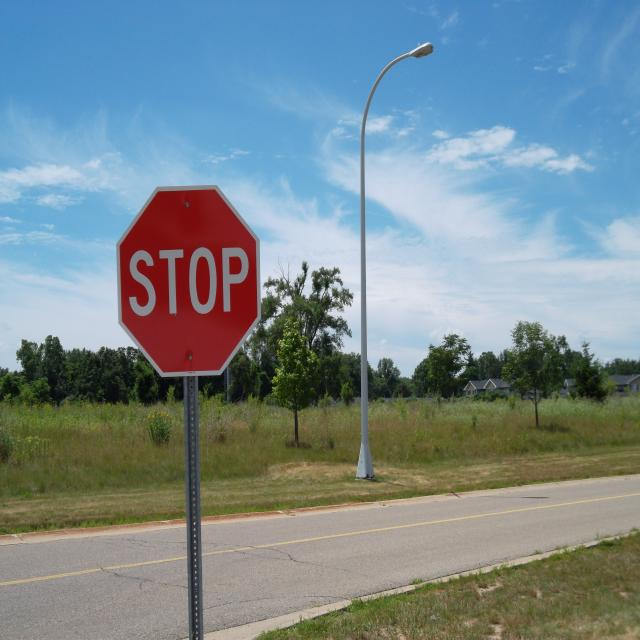stop: (112, 179, 267, 386)
